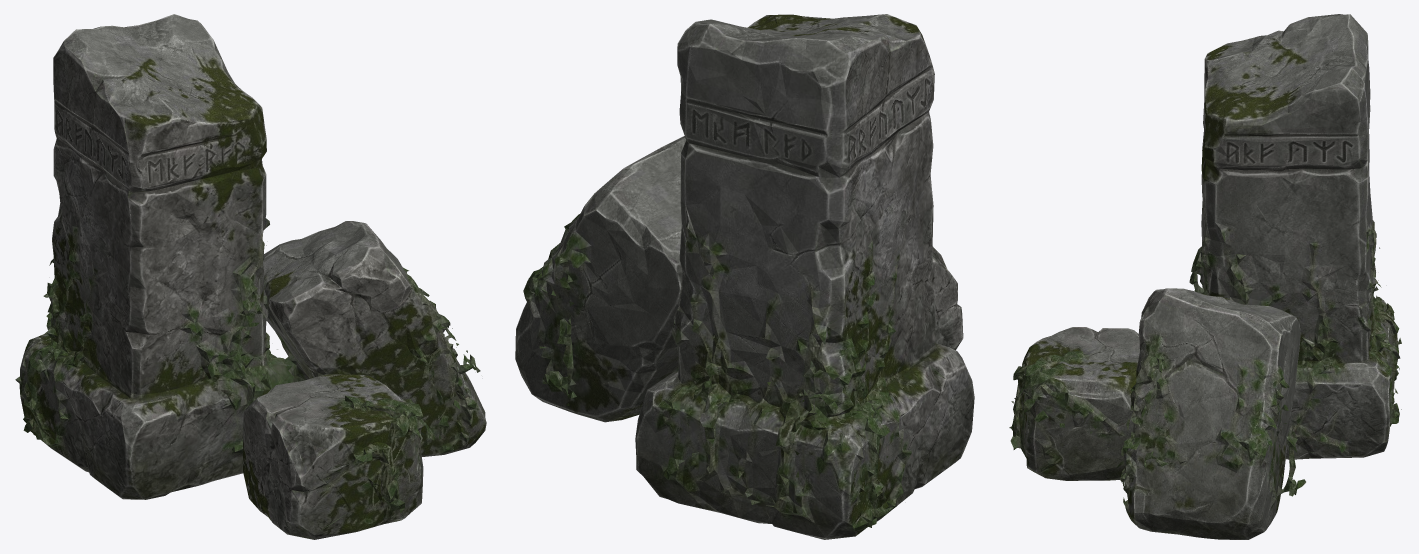
The model's file is pillar.glb.
The picture shows the model from 3 angles, left to right: view 1: azimuth 30°, elevation 25°; view 2: azimuth 150°, elevation 25°; view 3: azimuth 270°, elevation 25°; orthographic projection. The views are drawn at different scales.
Parts seen in each view (by area): view 1: lo; view 2: lo; view 3: lo.
Boxes of the visible parts, x1=… form: lo: x1=15, y1=14, x2=486, y2=539; lo: x1=515, y1=14, x2=974, y2=539; lo: x1=1009, y1=14, x2=1401, y2=539.
Bounding box in the file's own units: 0.9656 × 1 × 0.9433.
Materials: 1 (1 with a texture image).
